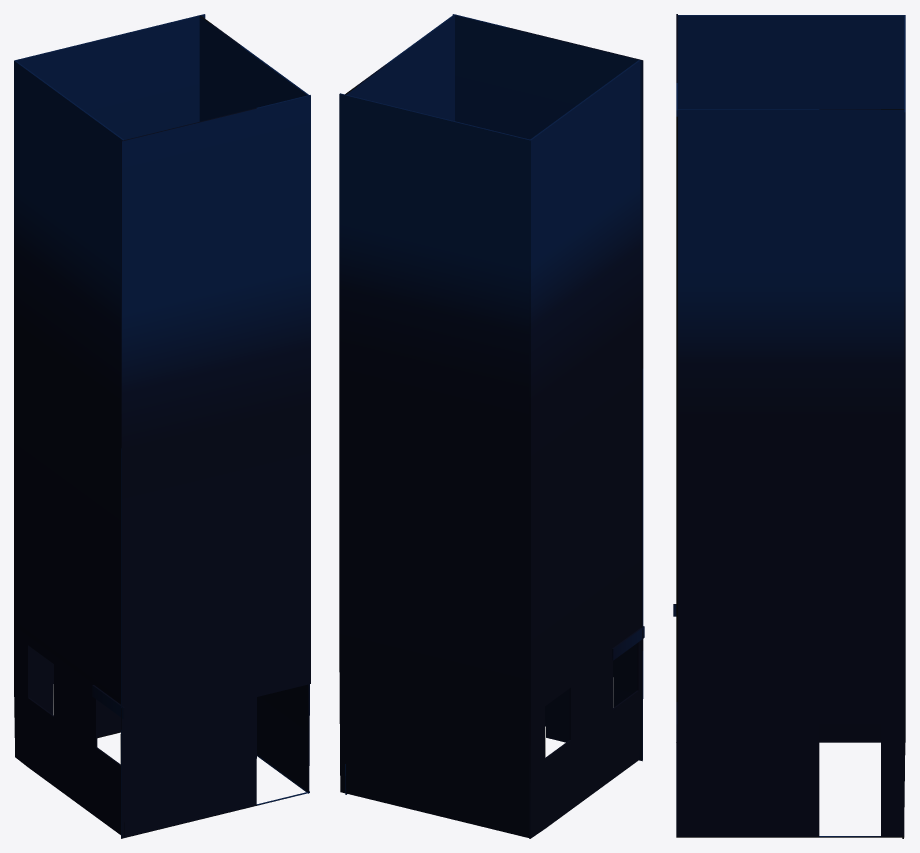
Rendered from WallsWindowsGlass.fbx.
3 renders of one model, left to right at view 1: azimuth 30°, elevation 25°; view 2: azimuth 150°, elevation 25°; view 3: azimuth 270°, elevation 25°, orthographic. The views are drawn at different scales.
Visible parts, largest first — view 1: Walls; view 2: Walls; view 3: Walls.
Boxes of the visible parts, bbox=[...] form: Walls: bbox=[14, 14, 310, 838]; Walls: bbox=[339, 14, 644, 838]; Walls: bbox=[673, 14, 905, 838].
Bounding box in the file's own units: 212 × 732 × 212.
